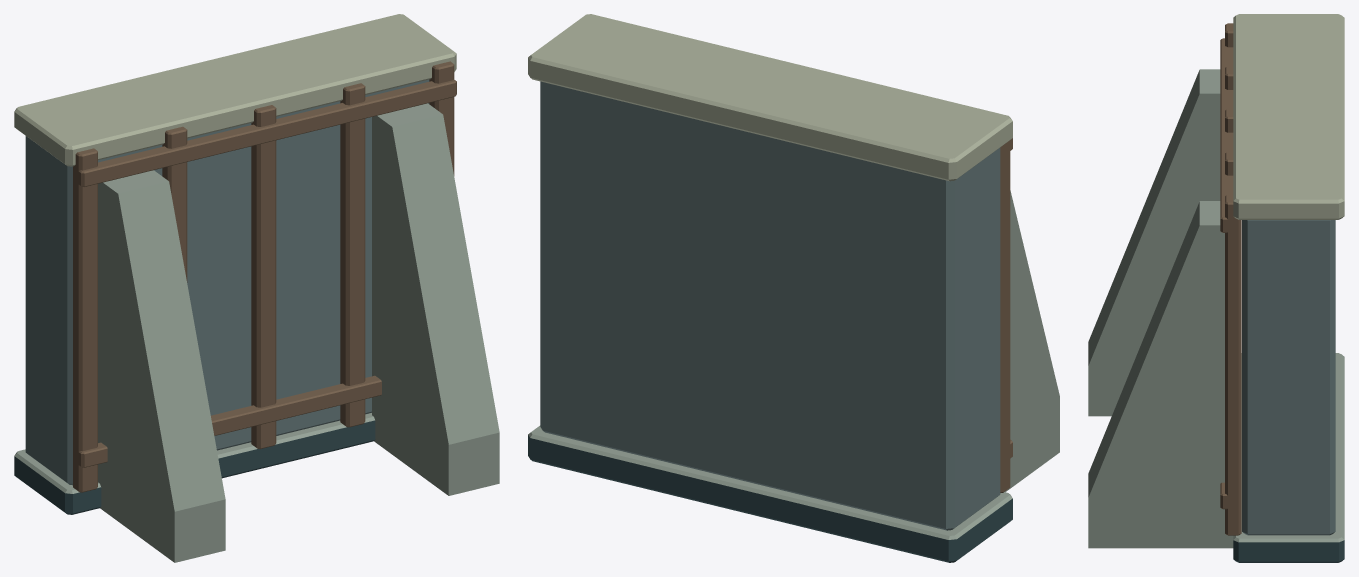
File: wall-buttress.glb
3 renders of one model, left to right at view 1: azimuth 30°, elevation 25°; view 2: azimuth 150°, elevation 25°; view 3: azimuth 270°, elevation 25°, orthographic. The views are drawn at different scales.
Visible parts, largest first — view 1: wall-buttress__body; view 2: wall-buttress__body; view 3: wall-buttress__body.
Part boxes in pixels (x1,y1,x2,y2): wall-buttress__body: [14, 14, 499, 562]; wall-buttress__body: [528, 14, 1059, 562]; wall-buttress__body: [1088, 14, 1344, 562].
Bounding box in the file's own units: 2 × 1.8 × 1.15.
